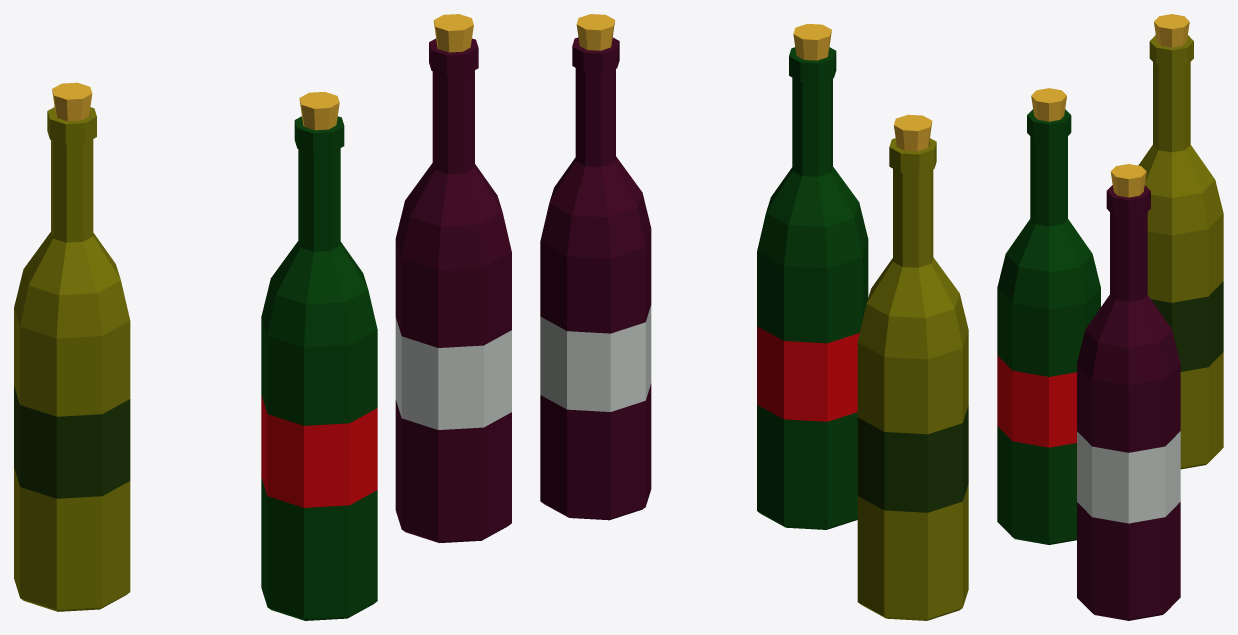
File: wine_bottles001.fbx
The picture shows the model from 3 angles, left to right: view 1: azimuth 30°, elevation 25°; view 2: azimuth 150°, elevation 25°; view 3: azimuth 270°, elevation 25°; orthographic projection. The views are drawn at different scales.
Parts seen in each view (by area): view 1: bw, bw.002, bw.001; view 2: bw.001, bw.002, bw; view 3: bw.001, bw, bw.002.
Part boxes in pixels (x1,y1,x2,y2): bw: (261,92,377,620); bw.002: (14,82,130,611); bw.001: (395,14,511,542); bw.001: (540,14,651,520); bw.002: (857,114,968,620); bw: (757,23,868,529); bw.001: (1077,164,1180,620); bw: (997,88,1100,544); bw.002: (1138,14,1223,469).
Bounding box in the file's own units: 47.82 × 49.38 × 23.61.
